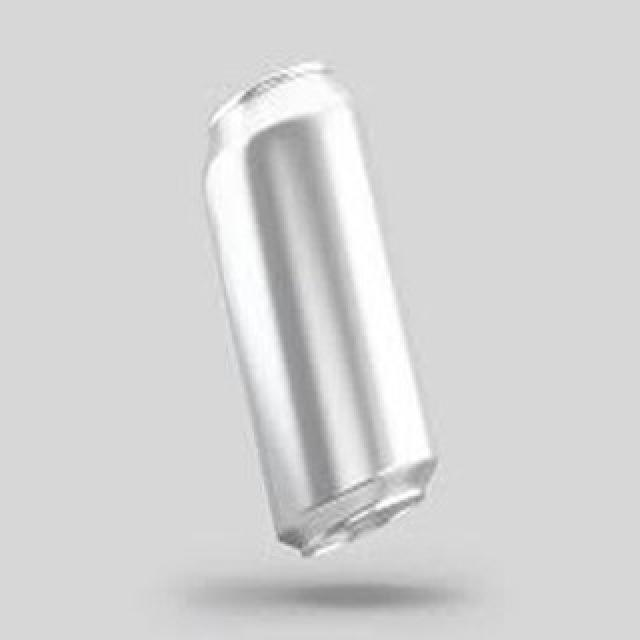Anorganik: (191, 49, 446, 565)
